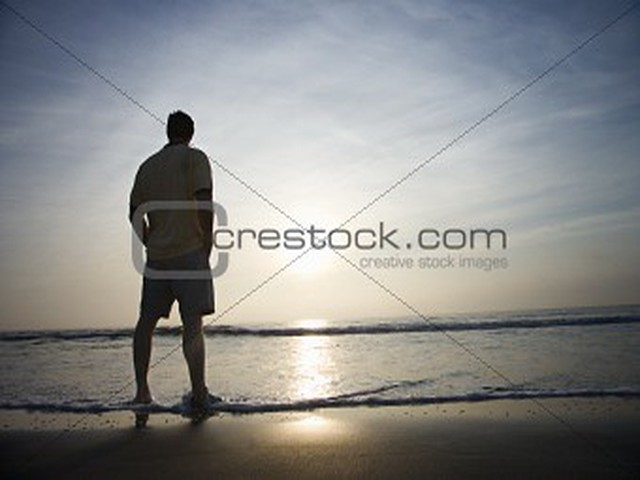Person: (113, 107, 228, 407)
